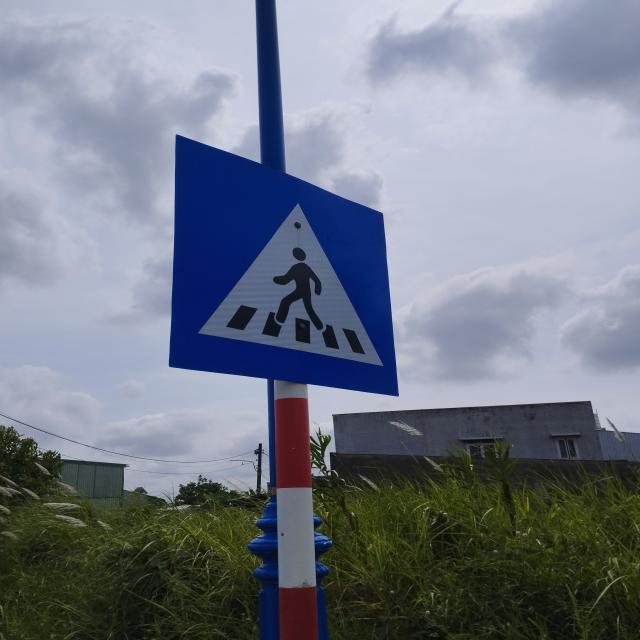Giao_Nhau_Duong_Uu_Tien: (169, 133, 396, 397)
